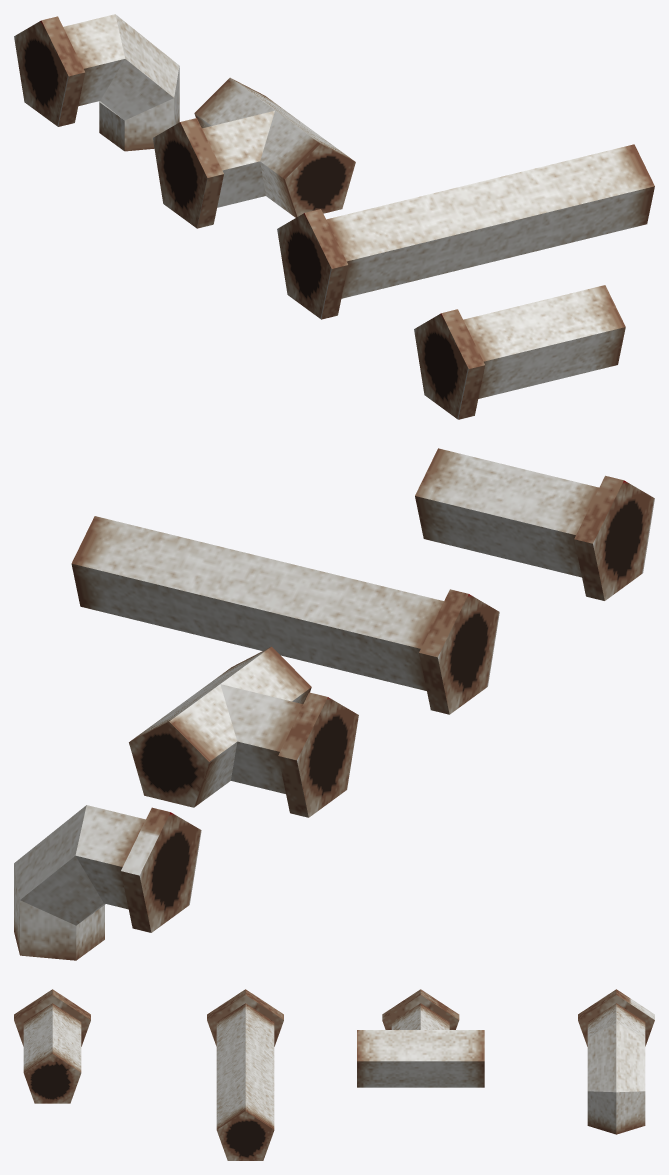
The model's file is Pipes.fbx.
3 renders of one model, top to bottom at view 1: azimuth 30°, elevation 25°; view 2: azimuth 150°, elevation 25°; view 3: azimuth 270°, elevation 25°, orthographic. The views are drawn at different scales.
Visible parts, largest first — view 1: Pipe Long, Pipe T, Pipe Short, Pipe Corner; view 2: Pipe Long, Pipe T, Pipe Short, Pipe Corner; view 3: Pipe Long, Pipe T, Pipe Corner, Pipe Short.
Part boxes in pixels (left/top/right/bottom): Pipe Long: left=277, top=144, right=654, bottom=319; Pipe T: left=153, top=77, right=355, bottom=228; Pipe Short: left=414, top=285, right=625, bottom=419; Pipe Corner: left=14, top=14, right=179, bottom=151; Pipe Long: left=71, top=516, right=499, bottom=714; Pipe T: left=129, top=646, right=358, bottom=817; Pipe Short: left=415, top=448, right=654, bottom=600; Pipe Corner: left=14, top=805, right=201, bottom=960; Pipe Long: left=207, top=989, right=283, bottom=1160; Pipe T: left=357, top=989, right=484, bottom=1087; Pipe Corner: left=578, top=989, right=654, bottom=1134; Pipe Short: left=14, top=989, right=90, bottom=1103.
Size of the model in its own units: 99.37 by 40 by 237.
Materials: 1 (1 with a texture image).
